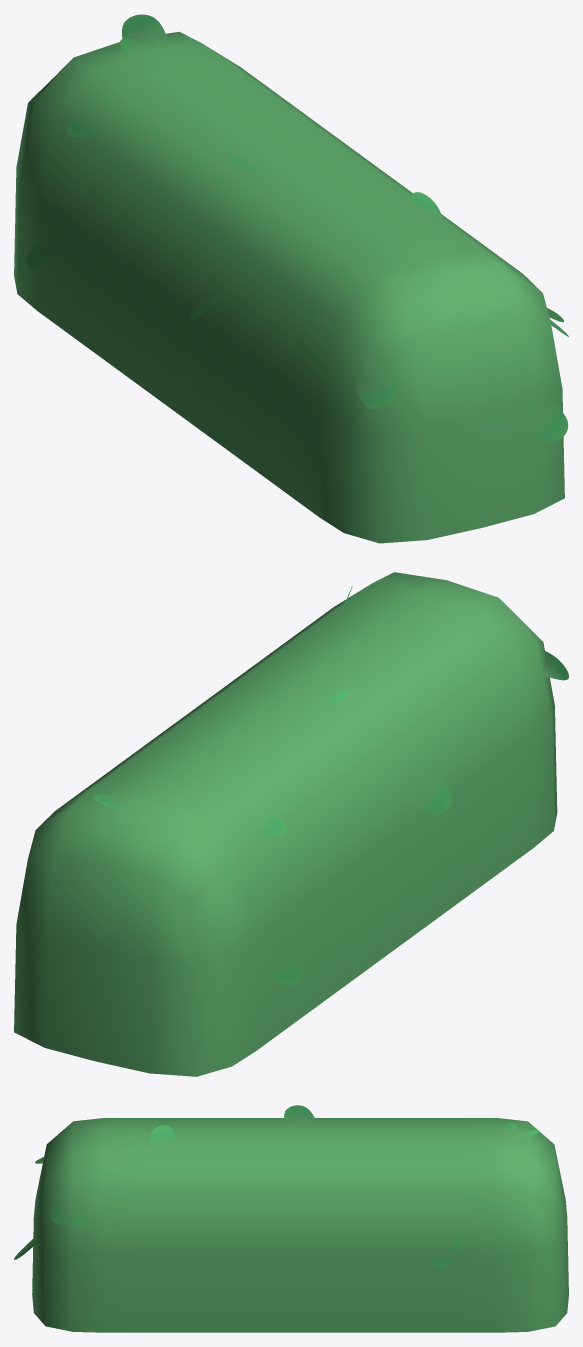
The model's file is Hedge_test.fbx.
3 renders of one model, top to bottom at view 1: azimuth 30°, elevation 25°; view 2: azimuth 150°, elevation 25°; view 3: azimuth 270°, elevation 25°, orthographic. The views are drawn at different scales.
Parts seen in each view (by area): view 1: Hedge_3m.003, Plane.557; view 2: Hedge_3m.003, Plane.557; view 3: Hedge_3m.003, Plane.557.
Boxes of the visible parts, x1,y1,x2,y2 form: Hedge_3m.003: (14, 31, 564, 543); Plane.557: (25, 14, 568, 441); Hedge_3m.003: (14, 572, 557, 1076); Plane.557: (94, 586, 568, 985); Hedge_3m.003: (32, 1118, 568, 1332); Plane.557: (14, 1105, 539, 1268).
Bounding box in the file's own units: 120 × 111 × 310.
